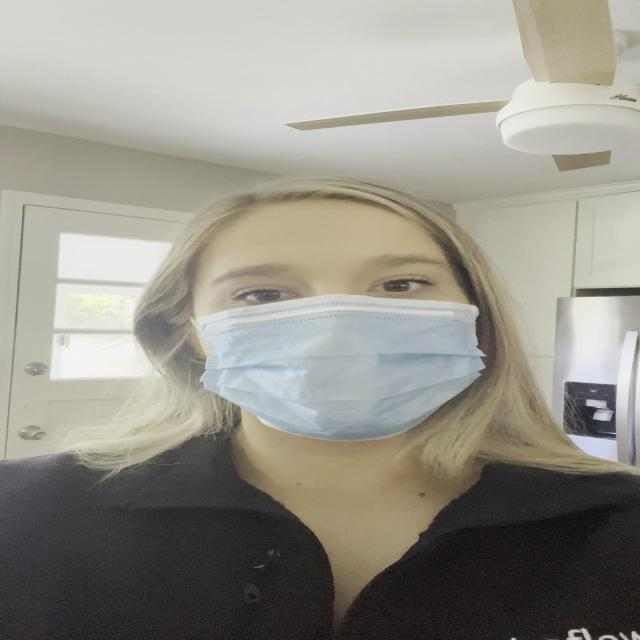no-helmet: (181, 198, 485, 442)
